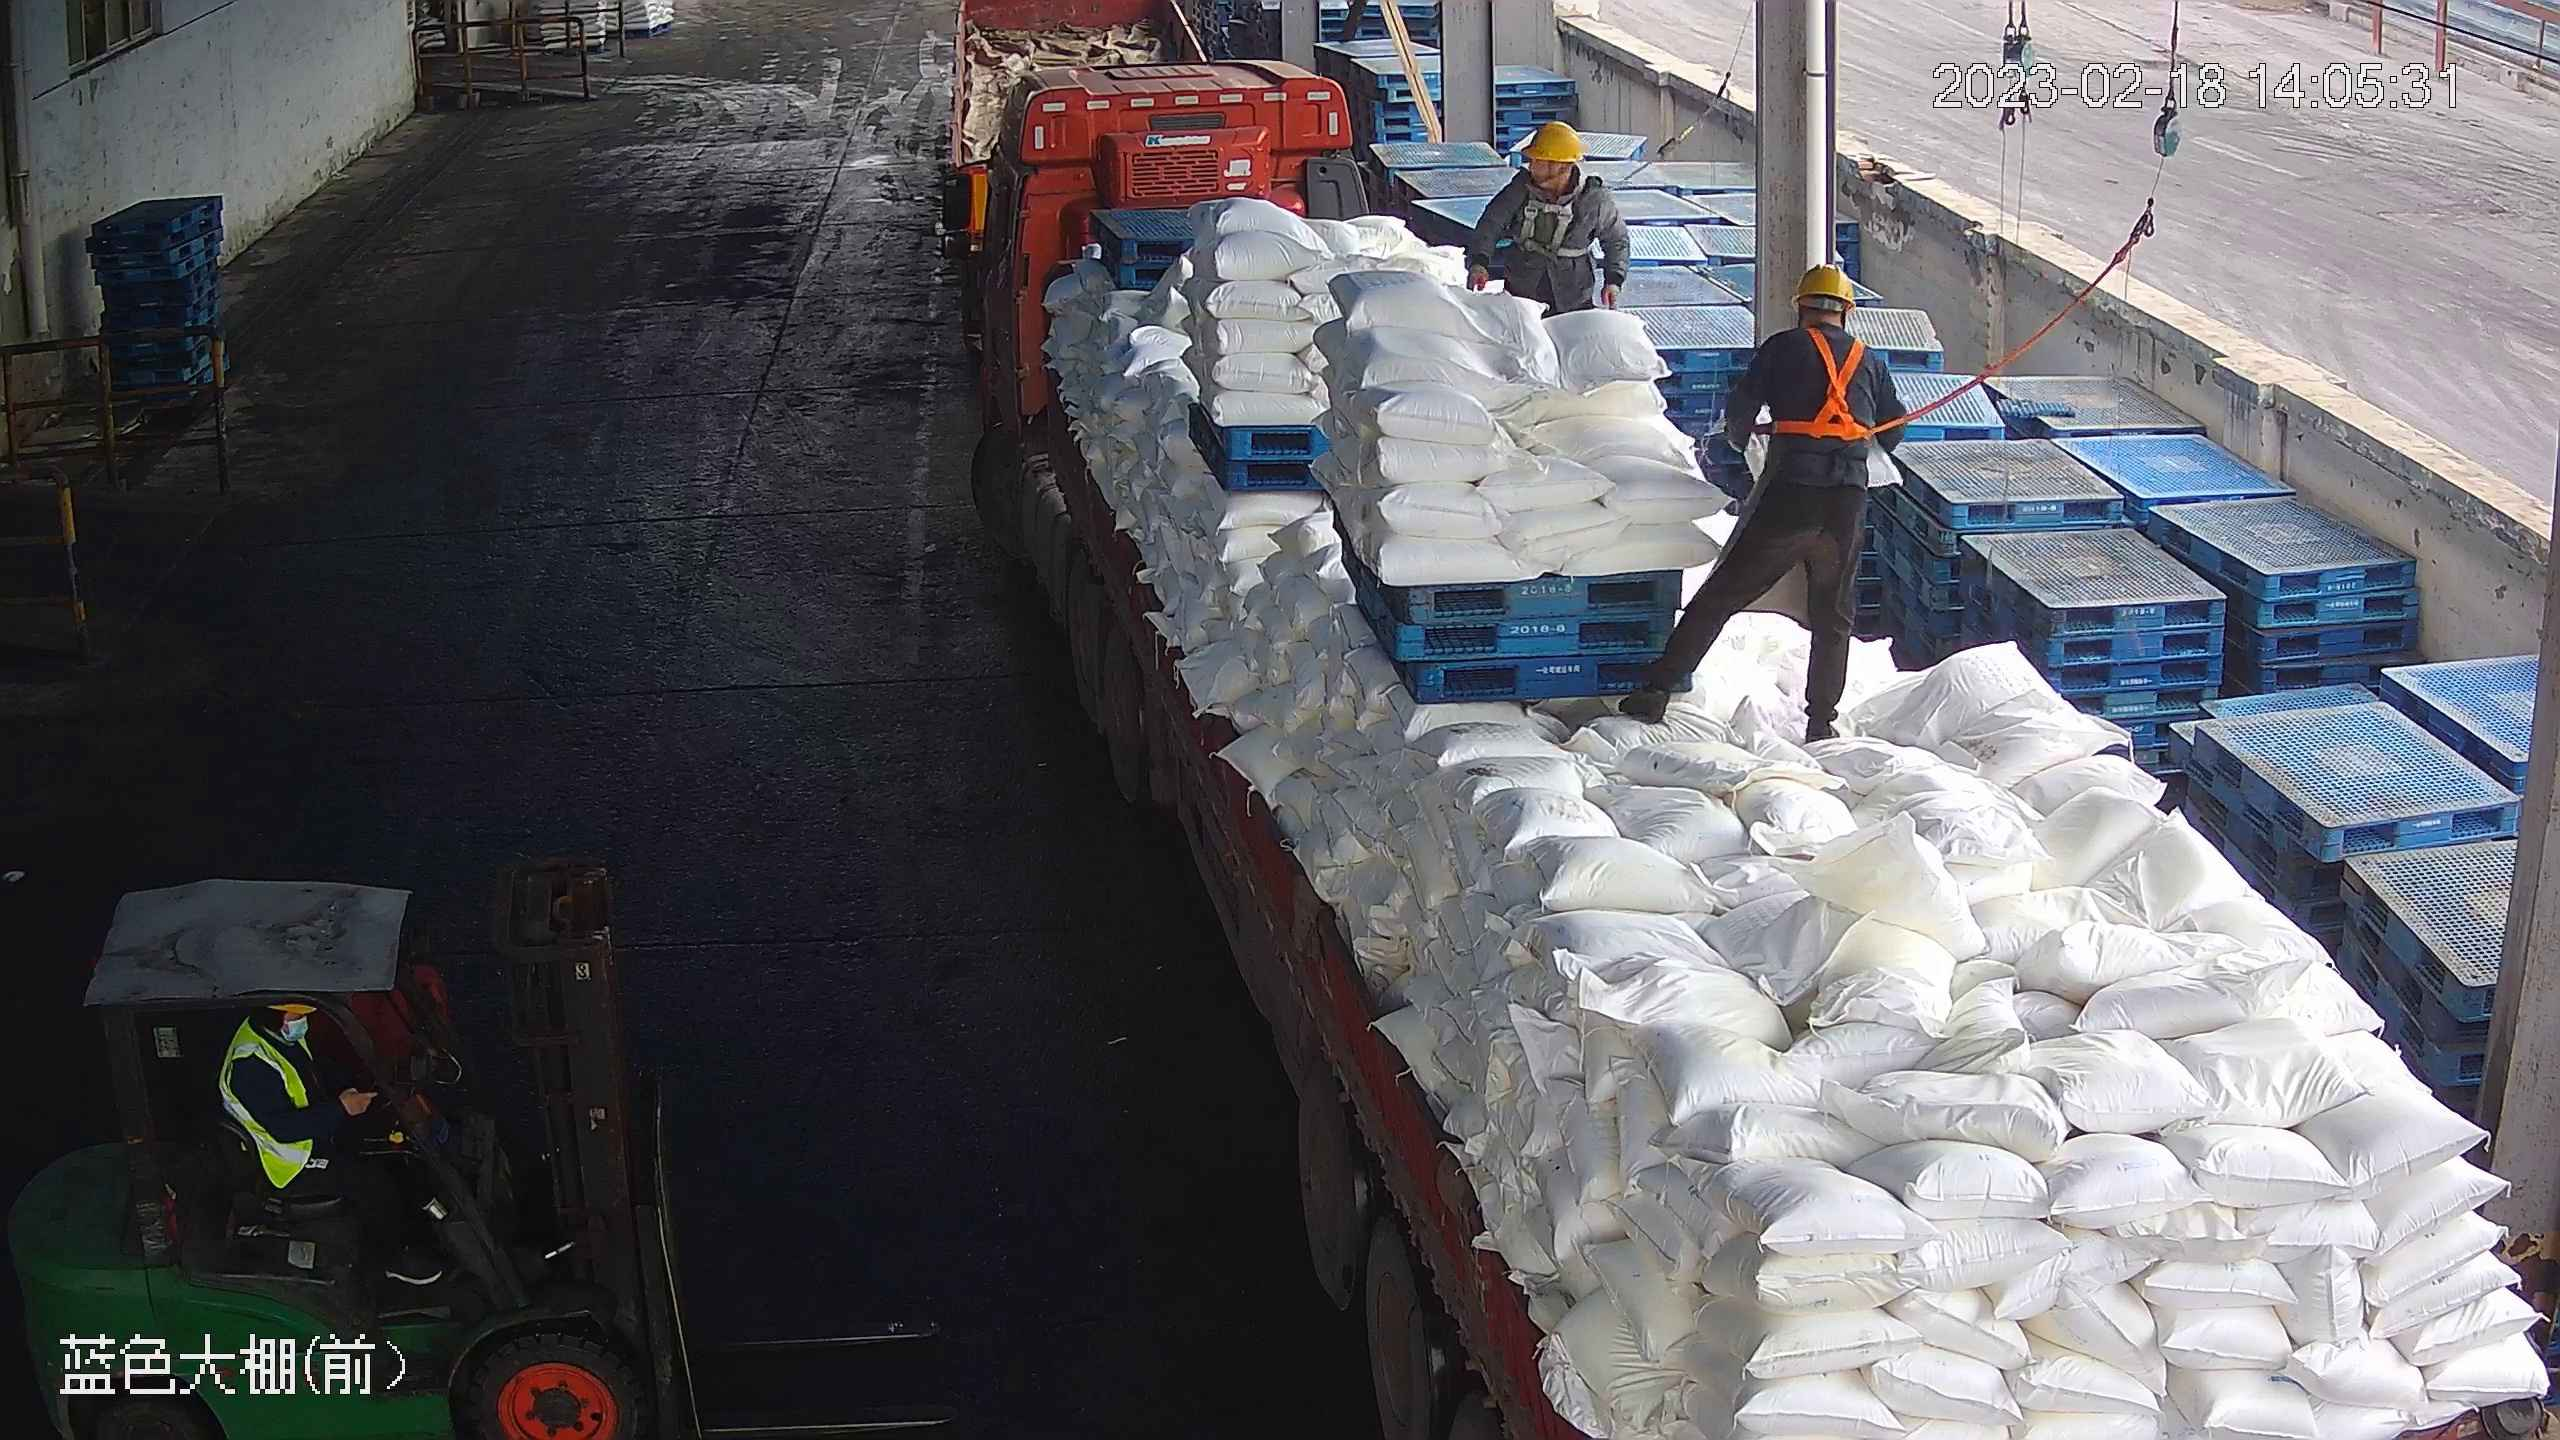belt: (1767, 324, 1885, 445), (1514, 173, 1598, 258)
head: (1753, 260, 1898, 392), (1496, 117, 1612, 224)
helmet: (1791, 260, 1858, 309), (1522, 116, 1584, 165)
people: (1622, 253, 1901, 747), (211, 990, 439, 1278), (1472, 115, 1625, 325)
truck: (945, 44, 2555, 1440)
